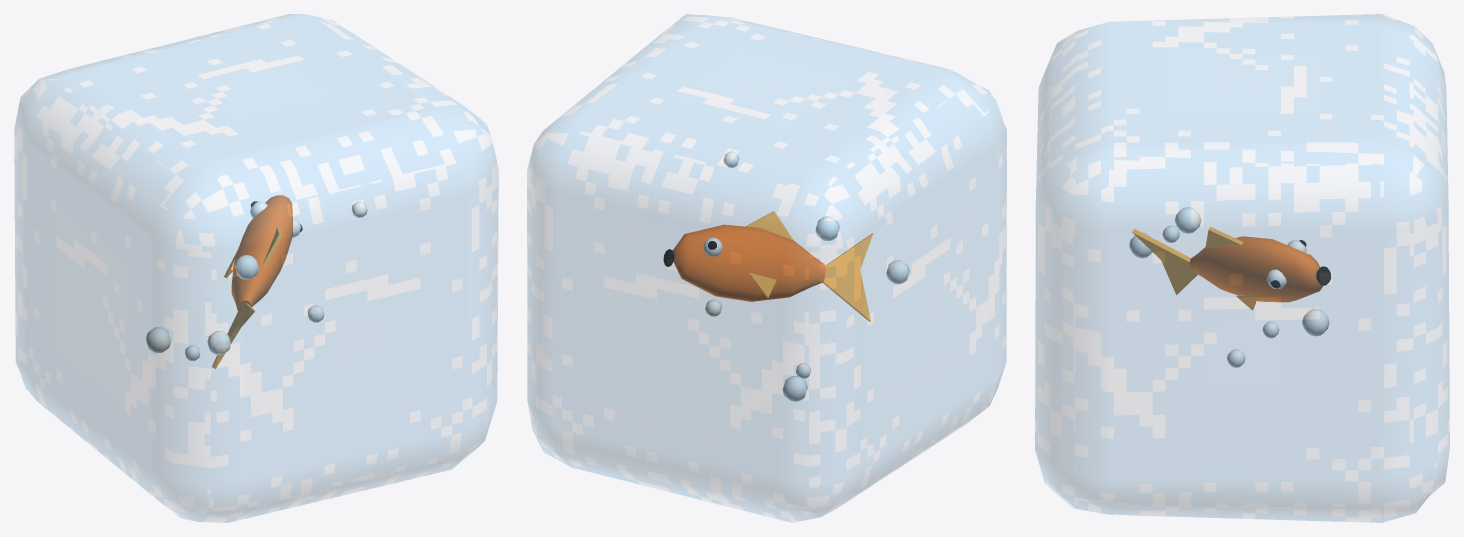
The model's file is pj_snowball_ice.glb.
The picture shows the model from 3 angles, left to right: view 1: azimuth 30°, elevation 25°; view 2: azimuth 150°, elevation 25°; view 3: azimuth 270°, elevation 25°; orthographic projection. The views are drawn at different scales.
Visible parts, largest first — view 1: picecube_wzAB, picefish_wzN; view 2: picecube_wzAB, picefish_wzN; view 3: picecube_wzAB, picefish_wzN.
Boxes of the visible parts, x1,y1,x2,y2 form: picecube_wzAB: (14, 14, 498, 522); picefish_wzN: (146, 195, 367, 368); picecube_wzAB: (527, 14, 1006, 522); picefish_wzN: (663, 151, 909, 401); picecube_wzAB: (1035, 14, 1449, 522); picefish_wzN: (1129, 207, 1330, 367).
Size of the model in its own units: 0.2045 by 0.2028 by 0.2017.
Materials: 6 (1 with a texture image).
